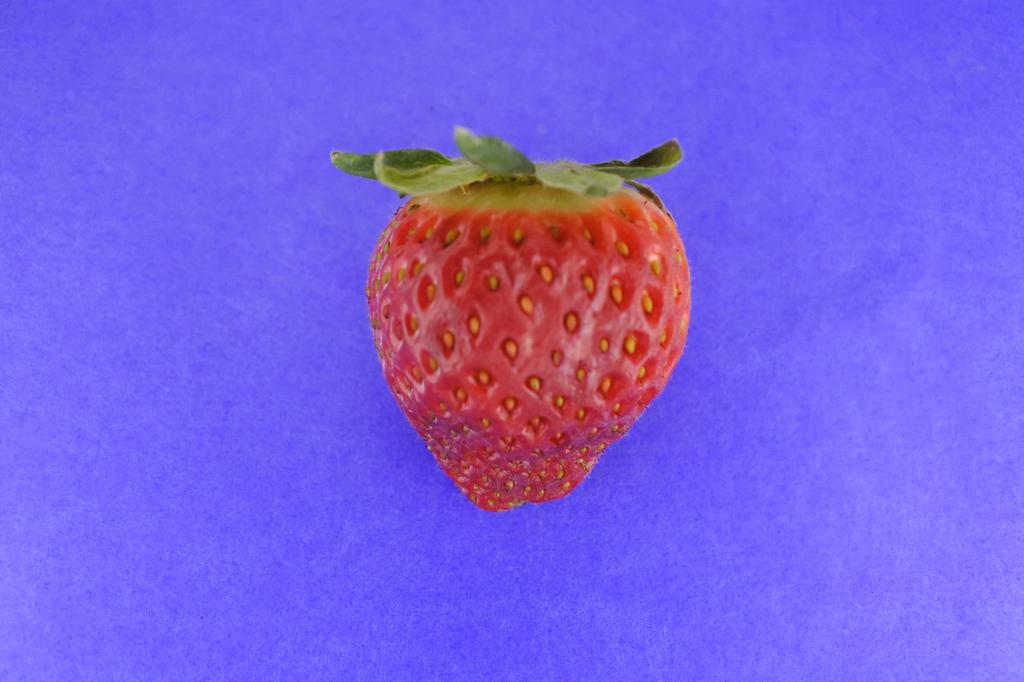red strawberry: (329, 125, 690, 512)
